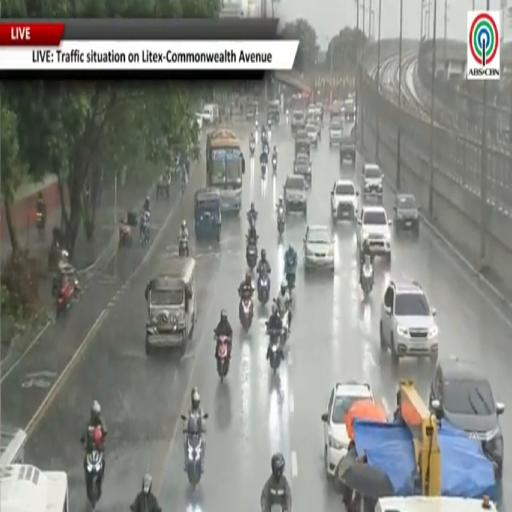bus: (206, 130, 245, 213), (0, 464, 68, 511), (0, 427, 26, 467)
car: (430, 358, 504, 477), (322, 382, 374, 477), (380, 281, 438, 363), (357, 204, 392, 263), (304, 226, 334, 270), (331, 180, 359, 220), (394, 194, 419, 234), (284, 175, 306, 214), (339, 122, 356, 164), (362, 164, 383, 195), (294, 153, 311, 182), (330, 118, 342, 147), (291, 110, 305, 133), (267, 101, 280, 124), (306, 123, 318, 147), (295, 139, 310, 156), (295, 126, 308, 141), (195, 112, 203, 130), (316, 103, 323, 121)
jeepney: (146, 258, 196, 355), (195, 188, 221, 241)
motorcycle: (83, 440, 103, 509), (183, 429, 203, 488), (86, 450, 103, 509), (56, 275, 80, 316), (274, 299, 290, 343), (216, 334, 230, 381), (268, 330, 283, 373), (238, 295, 254, 332), (360, 262, 374, 298), (257, 269, 270, 305), (119, 222, 132, 248), (246, 240, 257, 270), (277, 205, 285, 235), (286, 269, 296, 293), (140, 223, 150, 246), (36, 211, 45, 232), (179, 237, 188, 257), (261, 163, 266, 179), (250, 141, 255, 156), (273, 157, 277, 174), (286, 110, 290, 125), (268, 120, 271, 138), (255, 119, 258, 132)
truck: (372, 496, 497, 511), (291, 94, 305, 133)
